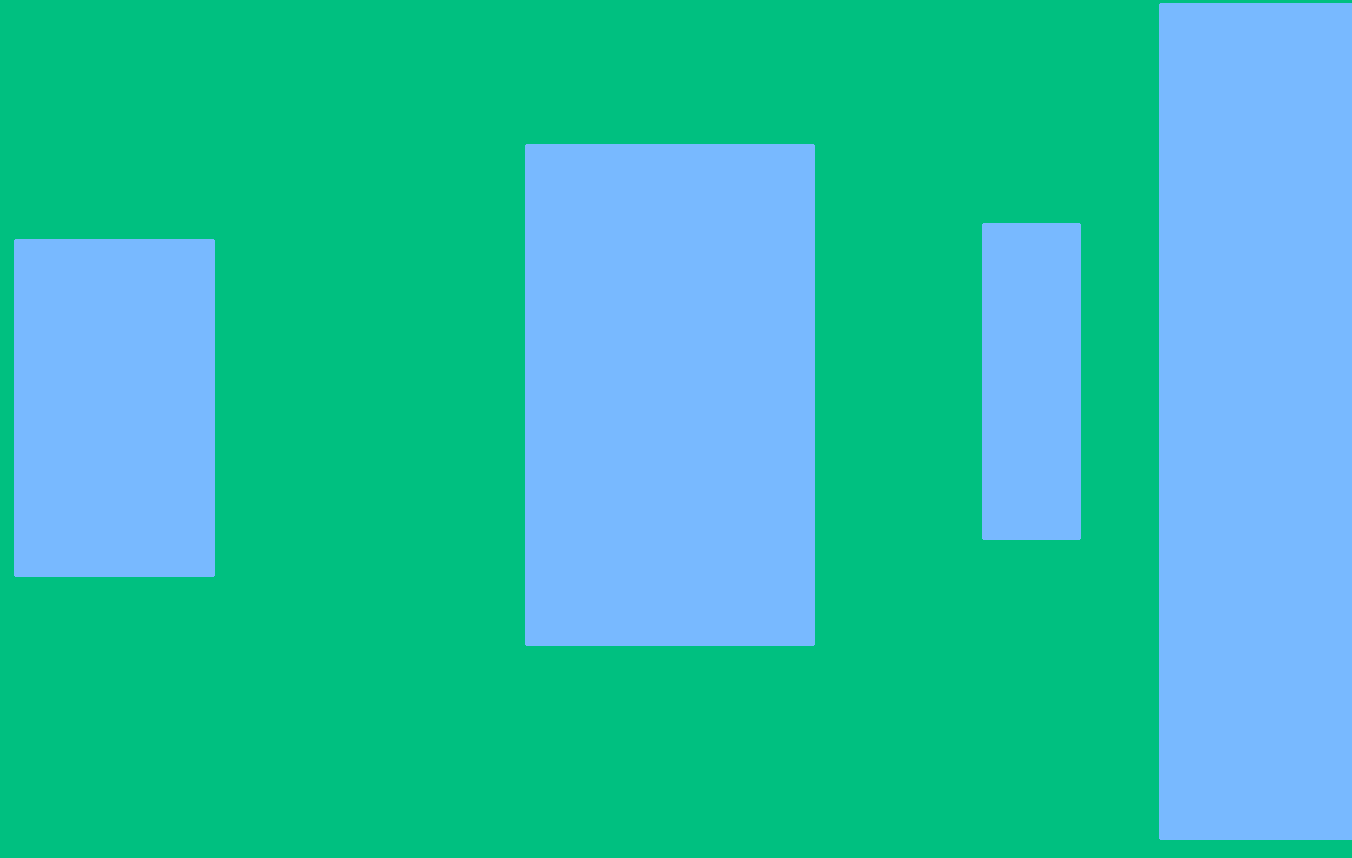Text_area: (1160, 4, 1352, 838), (526, 145, 813, 644), (15, 240, 213, 575), (983, 224, 1079, 538)
